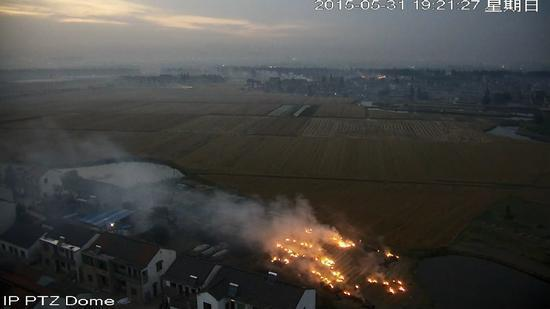fire: (270, 217, 358, 295), (365, 271, 406, 293), (385, 251, 398, 263)
